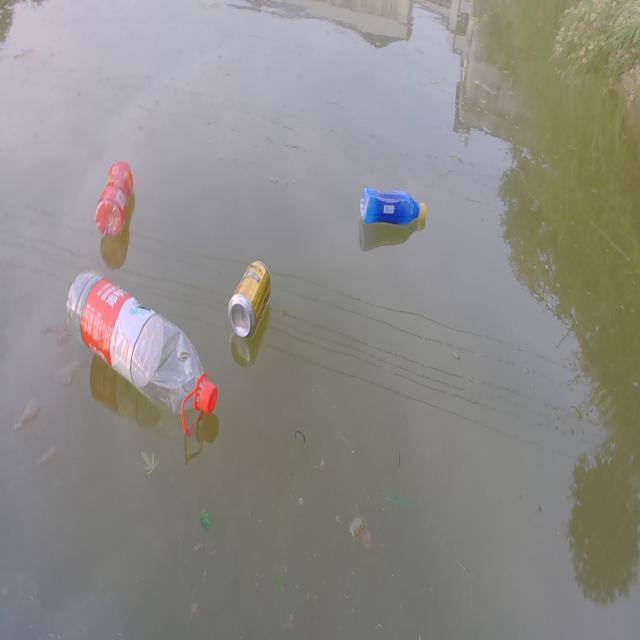garbage: (66, 267, 218, 425), (227, 259, 271, 340), (95, 158, 133, 238), (359, 186, 427, 226)
